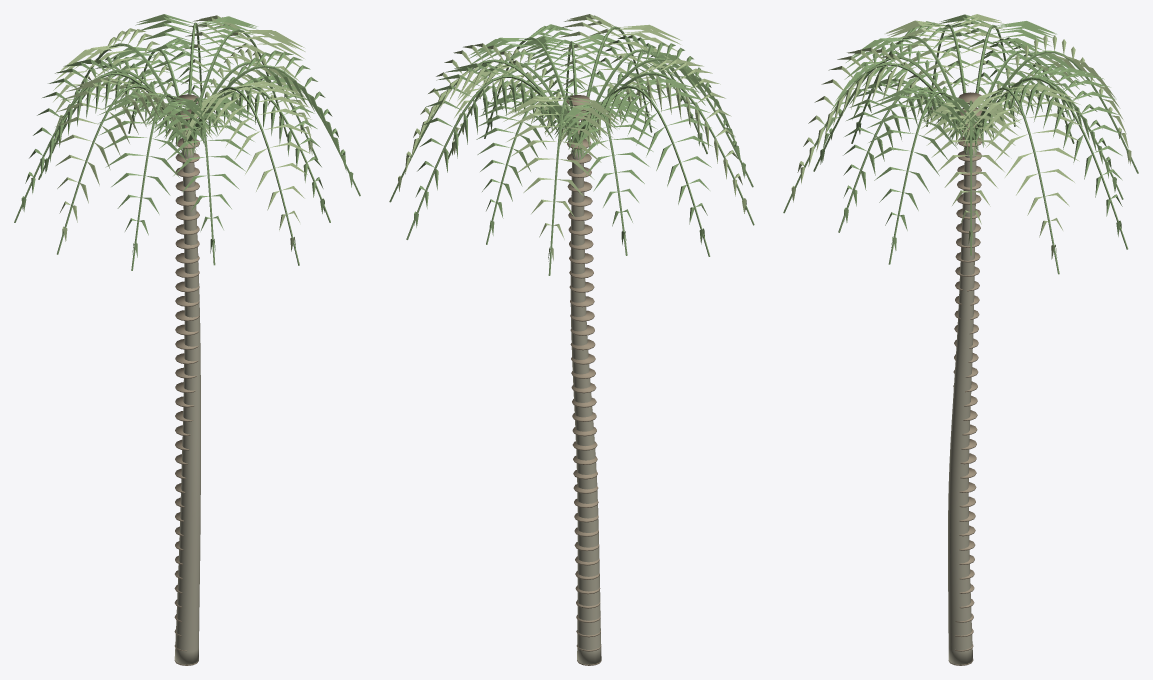
File: grove-specimen-9.glb
3 views of the same model, side by side, from view 1: azimuth 30°, elevation 25°; view 2: azimuth 150°, elevation 25°; view 3: azimuth 270°, elevation 25° (orthographic).
Visible parts, largest first — view 1: grove-specimen-9; view 2: grove-specimen-9; view 3: grove-specimen-9.
Part boxes in pixels (left/top/right/bottom): grove-specimen-9: left=14, top=14, right=360, bottom=665; grove-specimen-9: left=389, top=14, right=754, bottom=665; grove-specimen-9: left=783, top=14, right=1138, bottom=665.
Bounding box in the file's own units: 4.79 × 9.24 × 4.9.
